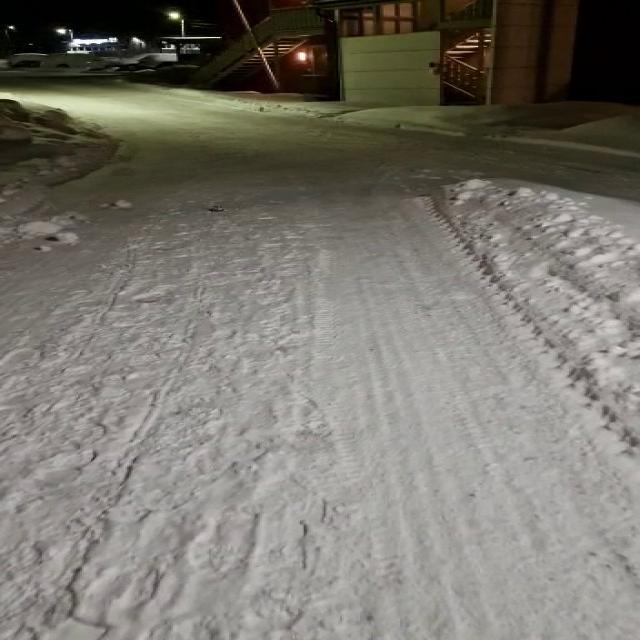path: (0, 77, 640, 640)
